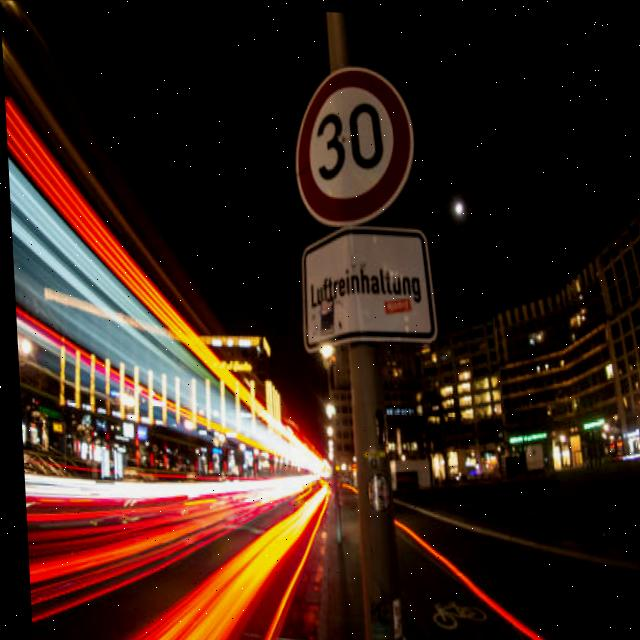Speed limit 30: (287, 58, 420, 228)
